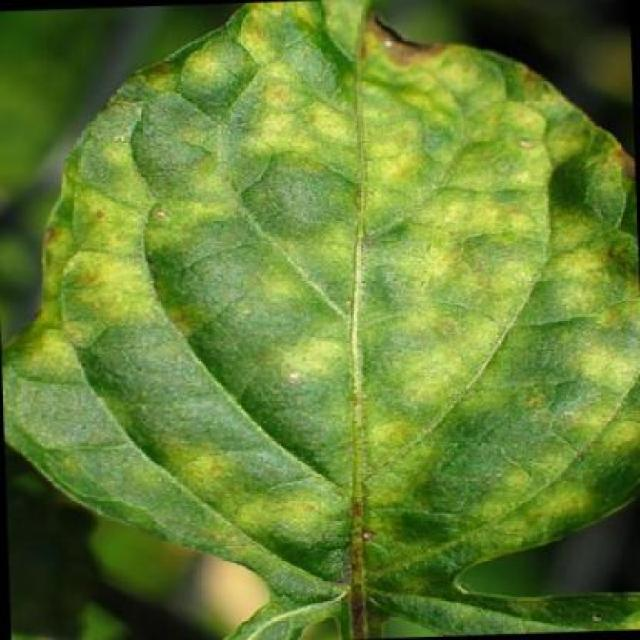Leaf Mold: (1, 1, 639, 639)
